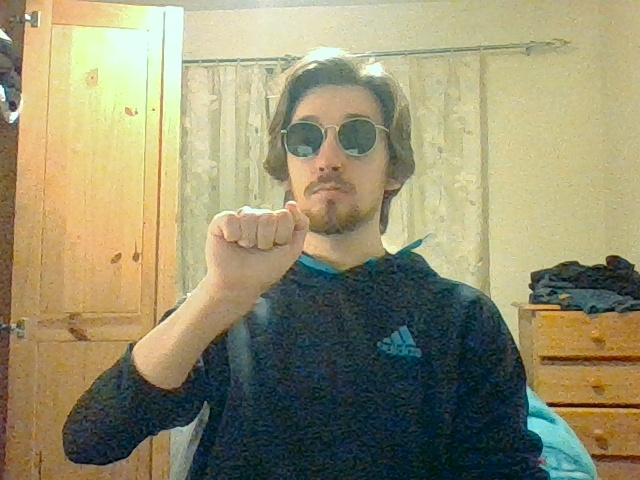your: (205, 201, 310, 294)
